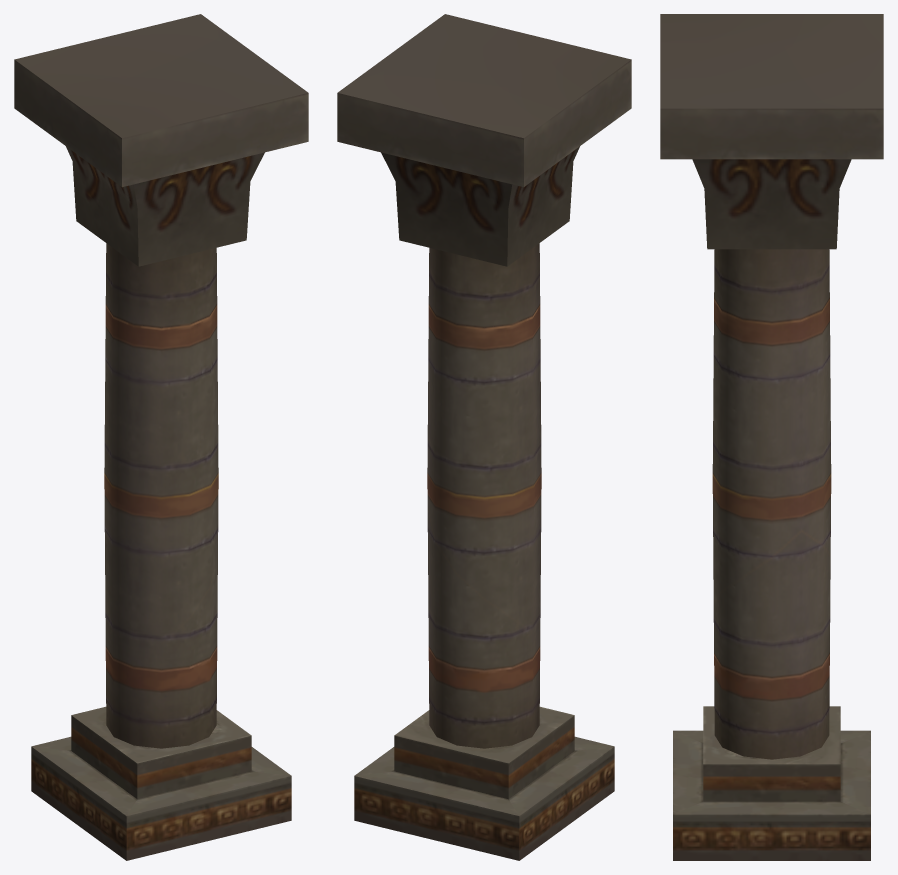
The model's file is blsd_boss_zhuzi_05.FBX.
3 renders of one model, left to right at view 1: azimuth 30°, elevation 25°; view 2: azimuth 150°, elevation 25°; view 3: azimuth 270°, elevation 25°, orthographic. The views are drawn at different scales.
Parts seen in each view (by area): view 1: blsd_boss_zhuzi_05; view 2: blsd_boss_zhuzi_05; view 3: blsd_boss_zhuzi_05.
Part boxes in pixels (x1,y1,x2,y2): blsd_boss_zhuzi_05: (14,14,308,860); blsd_boss_zhuzi_05: (337,14,631,860); blsd_boss_zhuzi_05: (660,14,883,860).
Size of the model in its own units: 278 by 1041 by 278.
